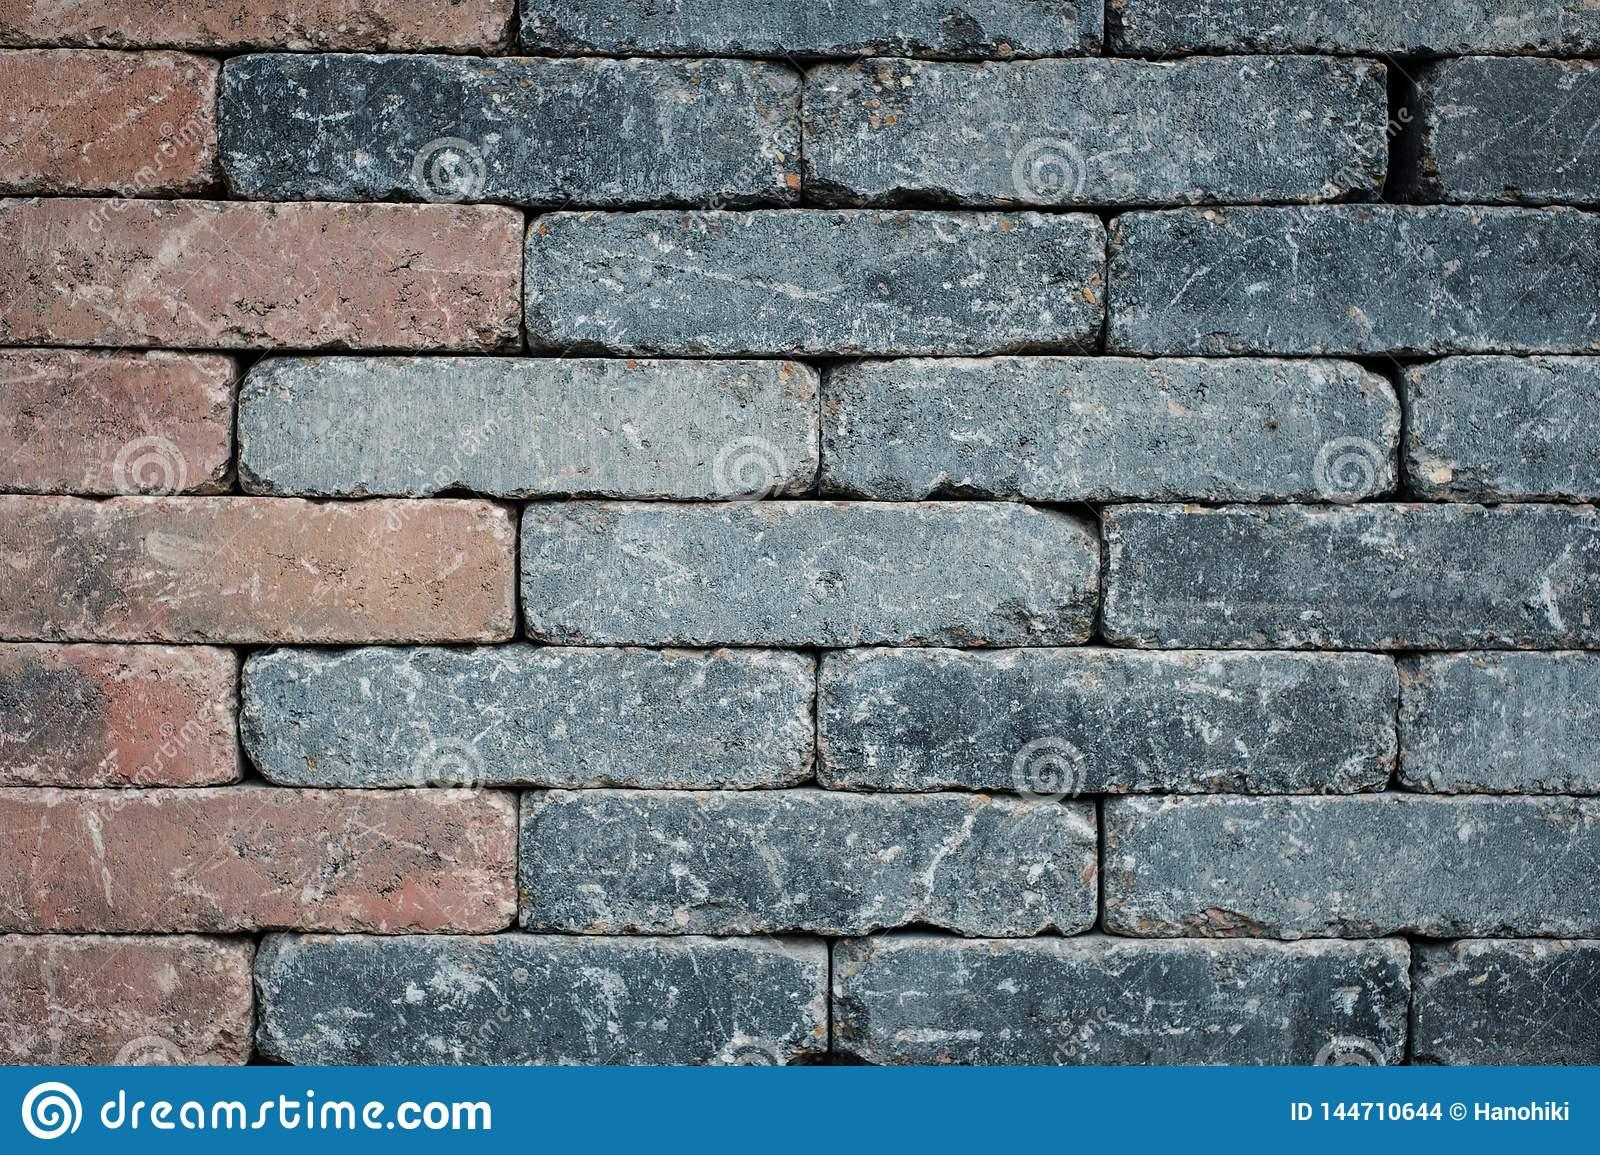brick: (810, 57, 1390, 206), (220, 57, 796, 206), (523, 497, 1103, 643), (523, 796, 1103, 936), (826, 353, 1404, 493), (530, 206, 1103, 346), (816, 653, 1404, 790), (237, 360, 824, 497), (247, 653, 820, 790), (6, 790, 523, 940), (263, 934, 826, 1071), (0, 200, 520, 343), (1101, 796, 1600, 940), (4, 500, 520, 640), (837, 940, 1410, 1063), (1103, 503, 1594, 643), (1113, 210, 1594, 350), (6, 350, 237, 493), (6, 643, 237, 784), (4, 940, 257, 1061), (4, 50, 216, 190), (1410, 650, 1596, 790), (1414, 353, 1600, 493), (1437, 60, 1594, 204), (1414, 944, 1596, 1063)
